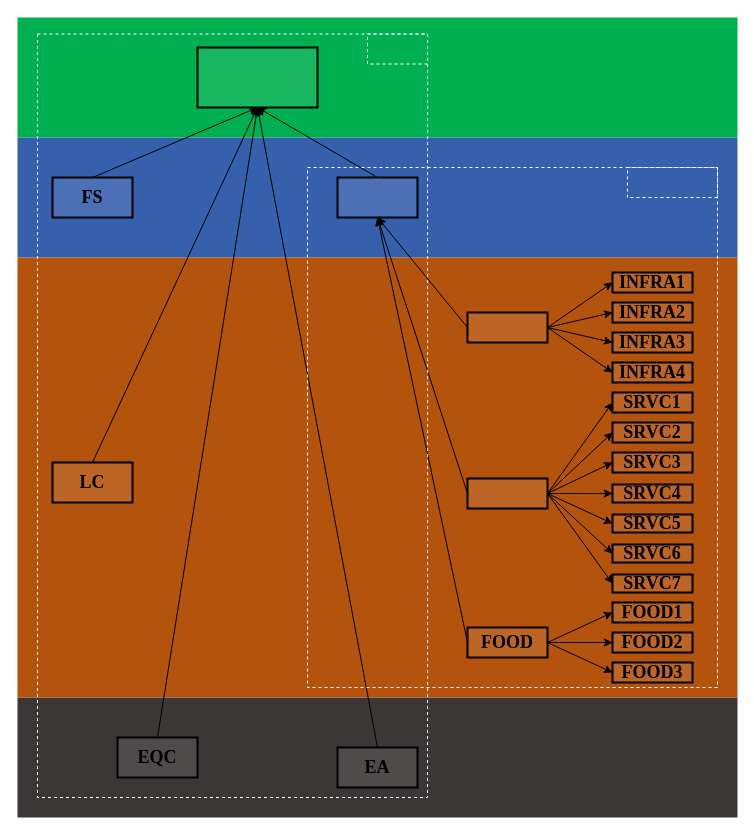
The diagram is 754 pixels wide and 834 high, and some of its shapes have lost their labels. Each missing label, with the box of its shape:
BMF: (366, 33, 428, 64)
INFRA: (466, 311, 548, 343)
PLS-SEM: (626, 166, 718, 198)
SAT: (336, 176, 418, 218)
SRVC: (466, 477, 548, 509)
WTP: (196, 46, 318, 108)
